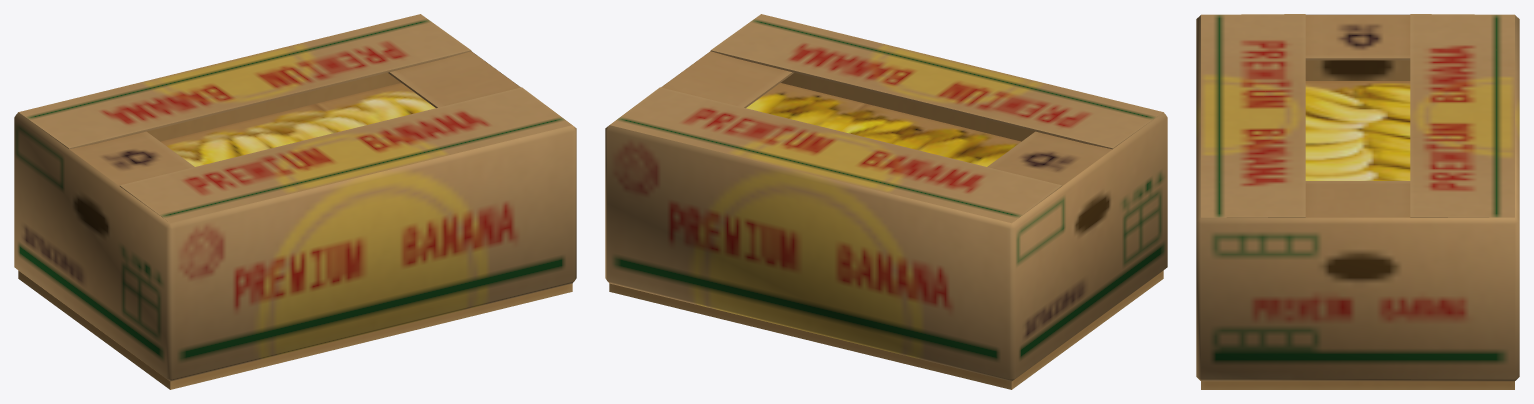
File: jsf_Cardboard_Banana_01.fbx
The picture shows the model from 3 angles, left to right: view 1: azimuth 30°, elevation 25°; view 2: azimuth 150°, elevation 25°; view 3: azimuth 270°, elevation 25°; orthographic projection. The views are drawn at different scales.
Parts seen in each view (by area): view 1: Lid, Body, Contents; view 2: Lid, Body, Contents; view 3: Lid, Contents, Body.
Boxes of the visible parts, box(x1,y1,x2,y2) form: Lid: box(14, 14, 576, 381); Body: box(18, 73, 572, 389); Contents: box(161, 83, 435, 166); Lid: box(605, 14, 1167, 381); Body: box(609, 73, 1163, 389); Contents: box(746, 83, 1020, 166); Lid: box(1196, 14, 1519, 381); Contents: box(1305, 81, 1410, 180); Body: box(1201, 60, 1514, 389).
Size of the model in its own units: 51.5 by 20.1 by 34.
